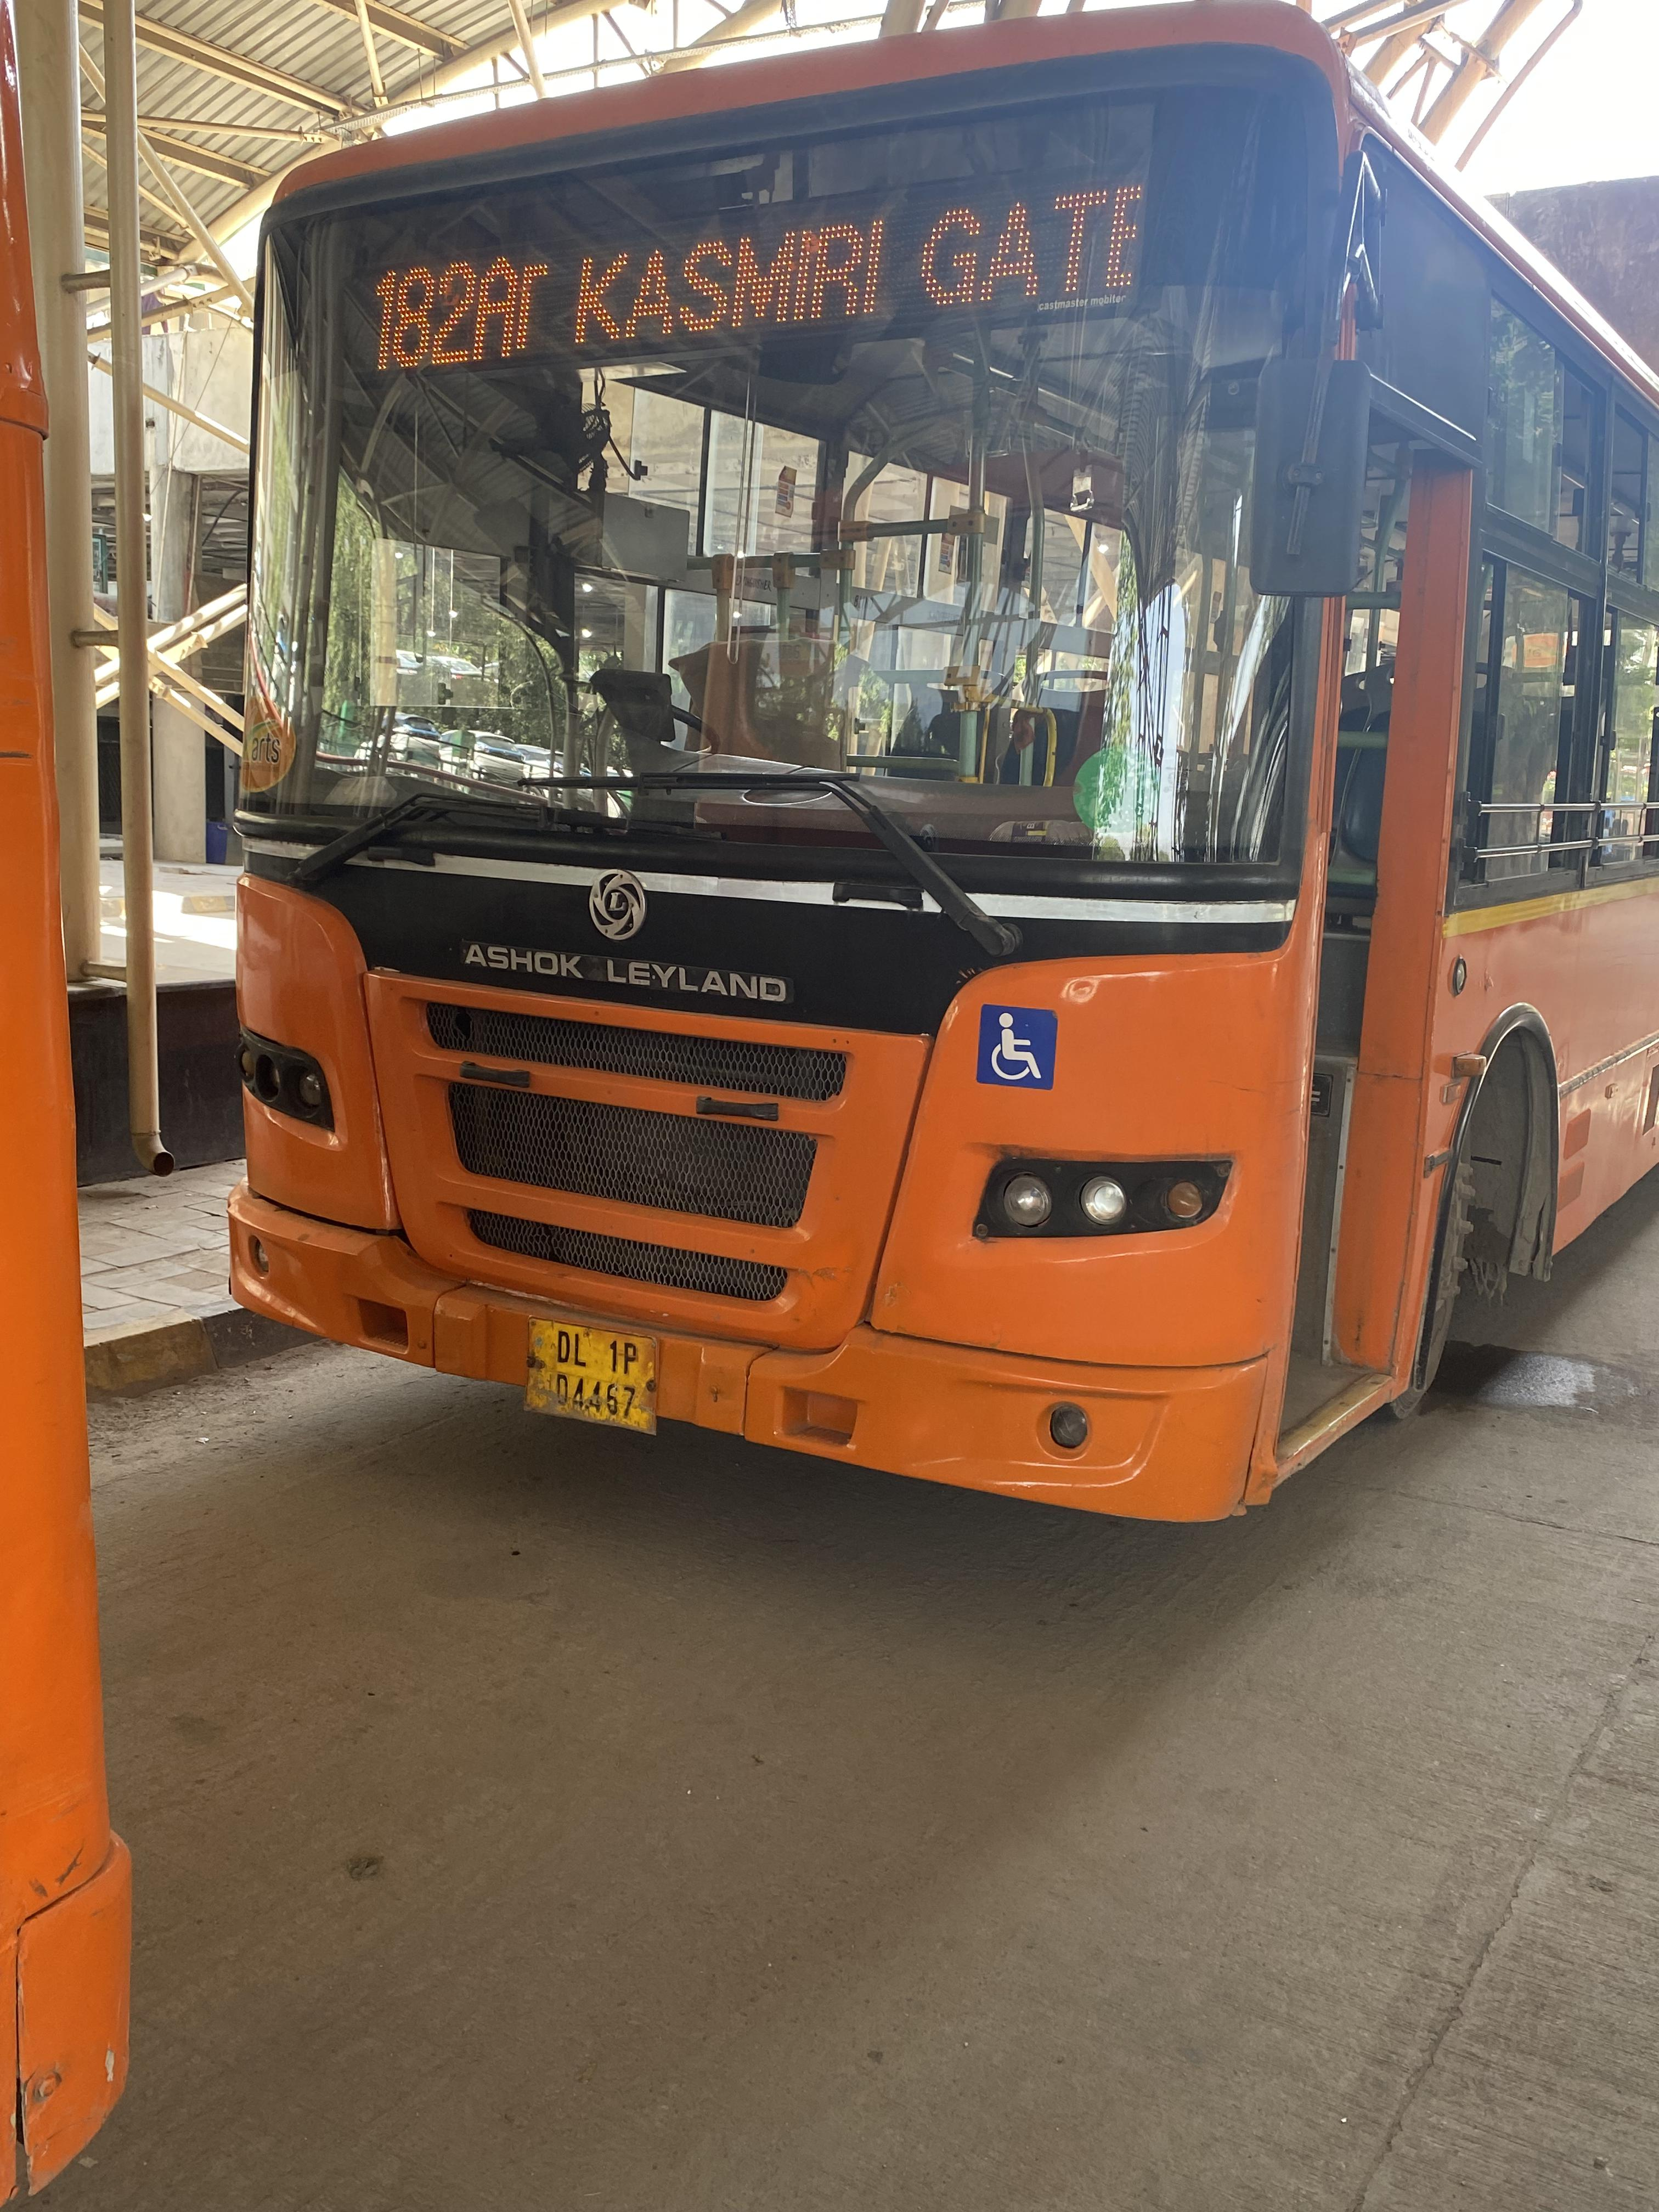Bus: (214, 0, 1361, 1591)
Display Board: (269, 121, 1328, 433)
License Plate: (488, 1278, 680, 1465)
